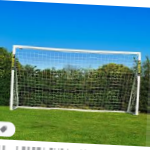goals: (9, 43, 143, 118)
